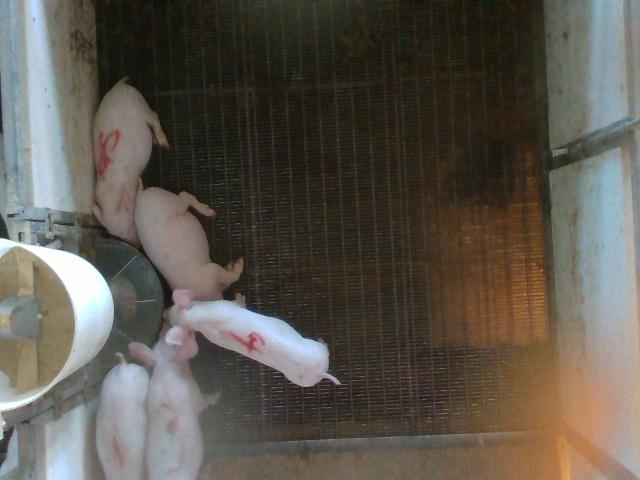pig-1: (96, 352, 149, 479)
pig-3: (129, 332, 206, 478)
pig-4: (165, 290, 340, 386)
pig-5: (92, 78, 169, 244)
